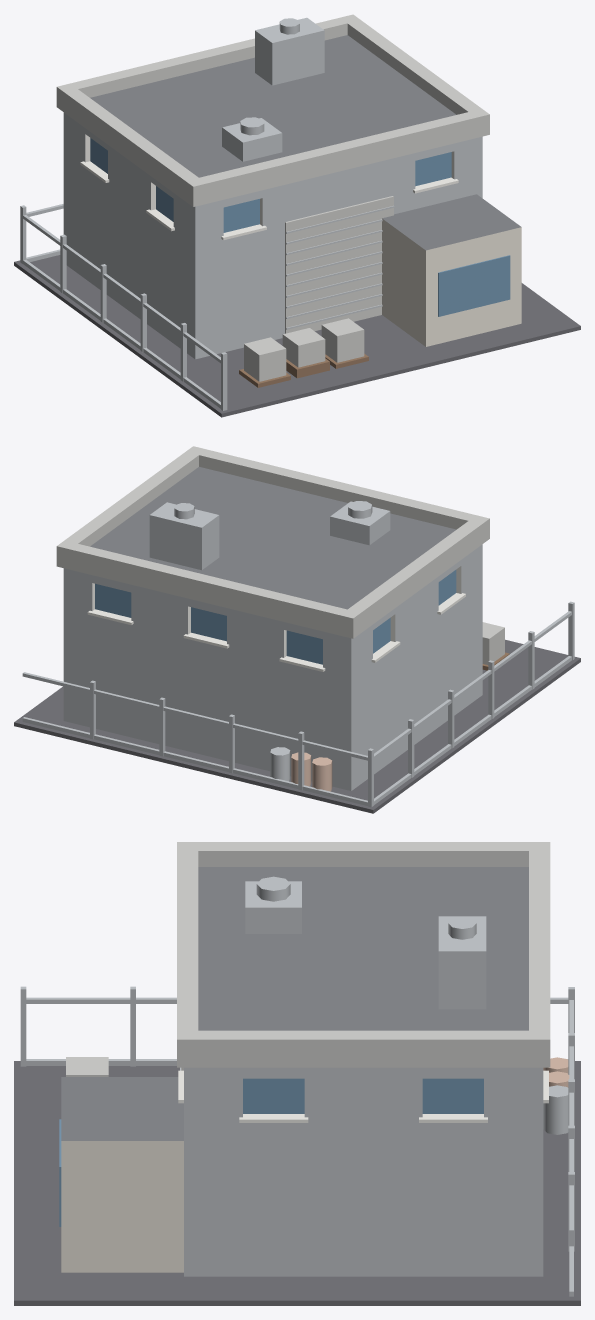
3 views of the same model, one above another, from view 1: azimuth 30°, elevation 25°; view 2: azimuth 150°, elevation 25°; view 3: azimuth 270°, elevation 25° (orthographic). The views are drawn at different scales.
Visible parts, largest first — view 1: i_1_1_a; view 2: i_1_1_a; view 3: i_1_1_a.
Part boxes in pixels (left/top/right/bottom): i_1_1_a: left=14, top=14, right=580, bottom=417; i_1_1_a: left=14, top=446, right=580, bottom=813; i_1_1_a: left=14, top=842, right=580, bottom=1305.
Size of the model in its own units: 12 by 6.96 by 12.
